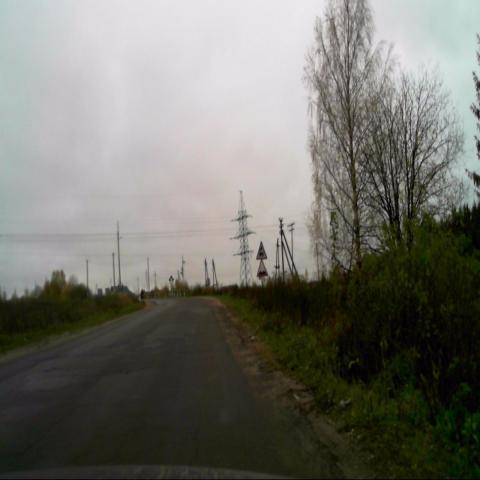1_16: (256, 258, 269, 278)
1_2: (256, 241, 268, 259)
